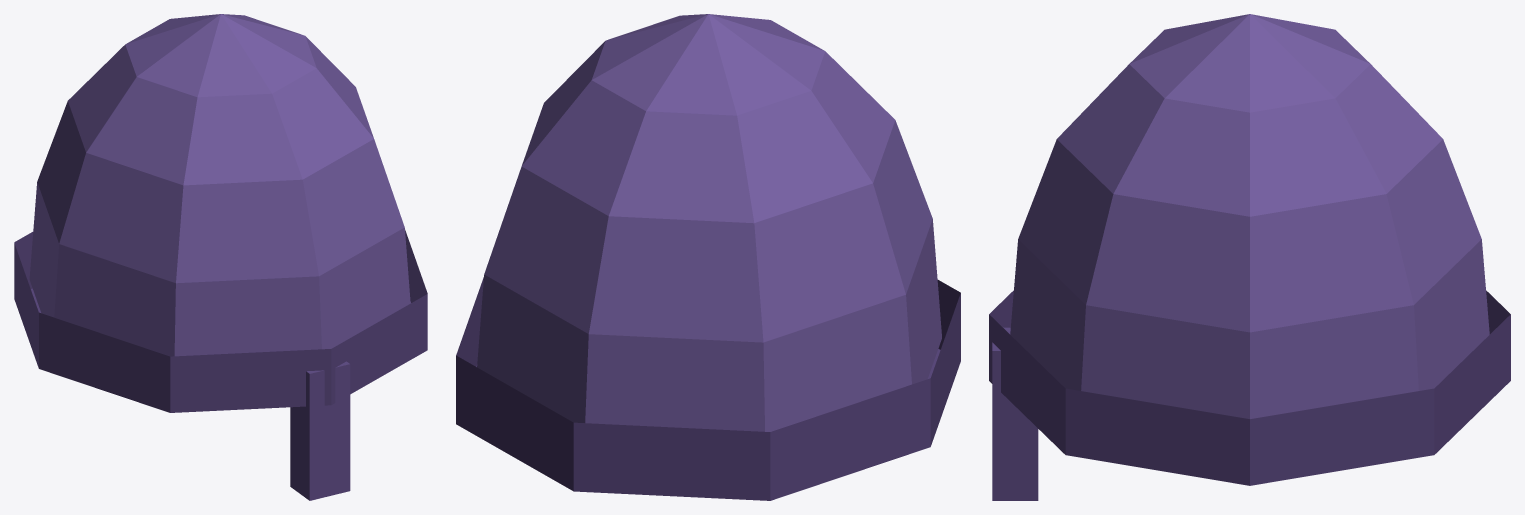
File: helm_runic.glb
3 renders of one model, left to right at view 1: azimuth 30°, elevation 25°; view 2: azimuth 150°, elevation 25°; view 3: azimuth 270°, elevation 25°, orthographic. The views are drawn at different scales.
Visible parts, largest first — view 1: helm_runic; view 2: helm_runic; view 3: helm_runic.
Part boxes in pixels (bbox=[...]): helm_runic: bbox=[14, 14, 427, 500]; helm_runic: bbox=[456, 14, 960, 500]; helm_runic: bbox=[989, 14, 1510, 500].
Bounding box in the file's own units: 0.27 × 0.285 × 0.2835.
Materials: 1 (1 with a texture image).
